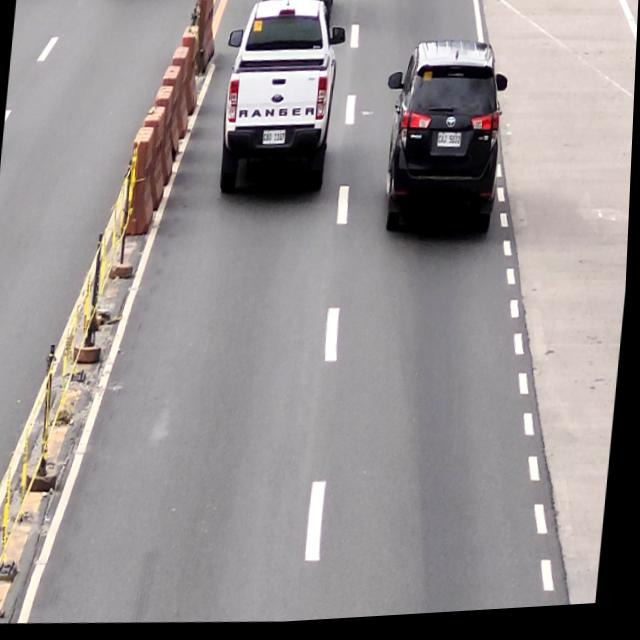Car: (376, 40, 513, 247), (215, 0, 350, 204)
License-Plate: (438, 134, 464, 156), (262, 133, 287, 149)
